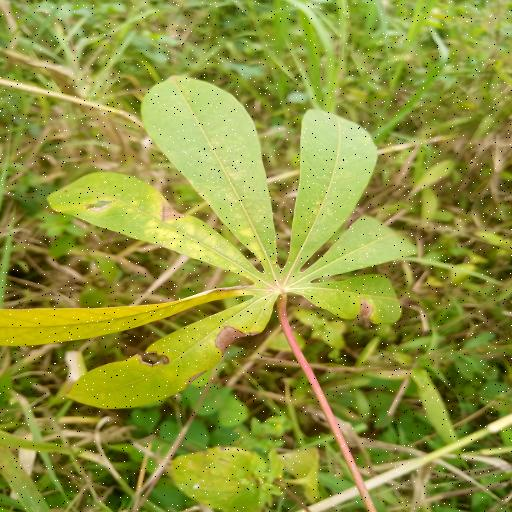Cassava_Mosaic: (0, 74, 416, 413)
